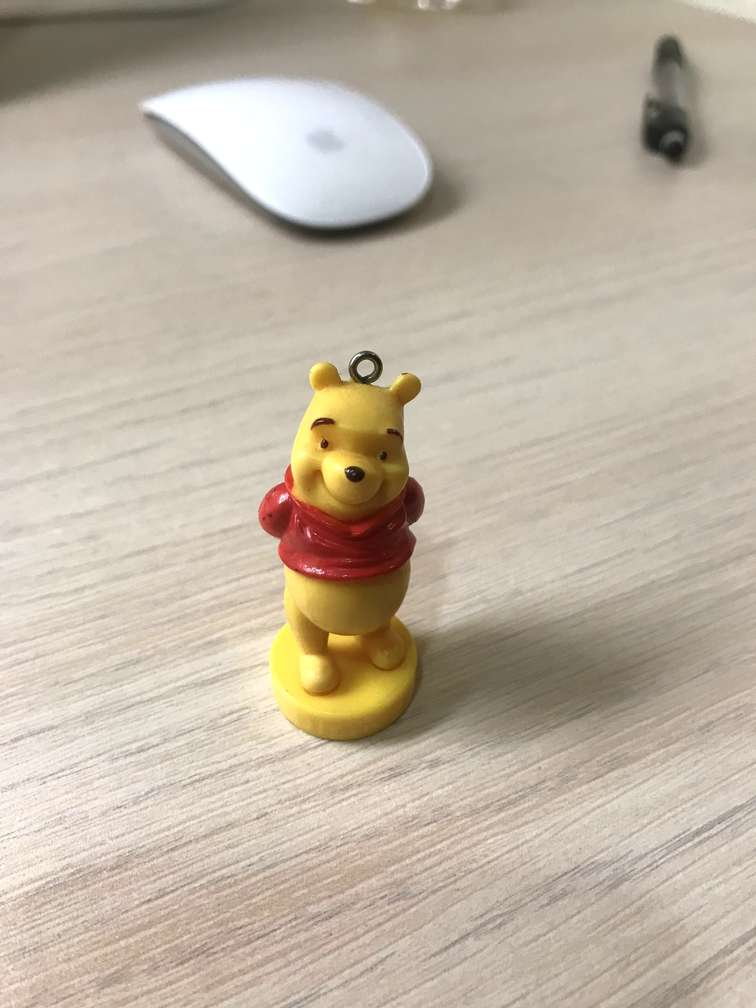Winnie: (275, 350, 434, 590)
